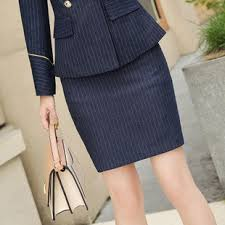F_tailored skirt: (58, 28, 190, 172)
